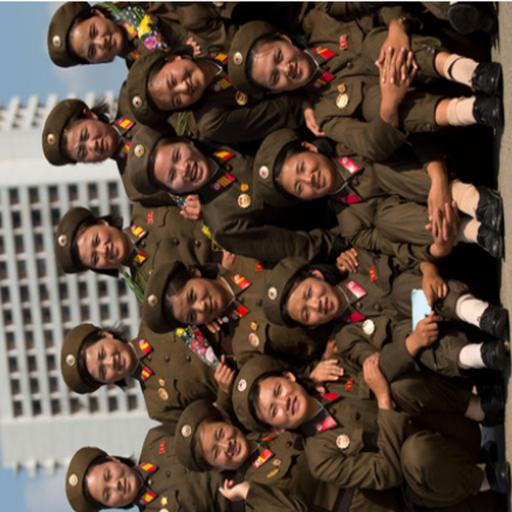north army: (30, 4, 512, 502)
